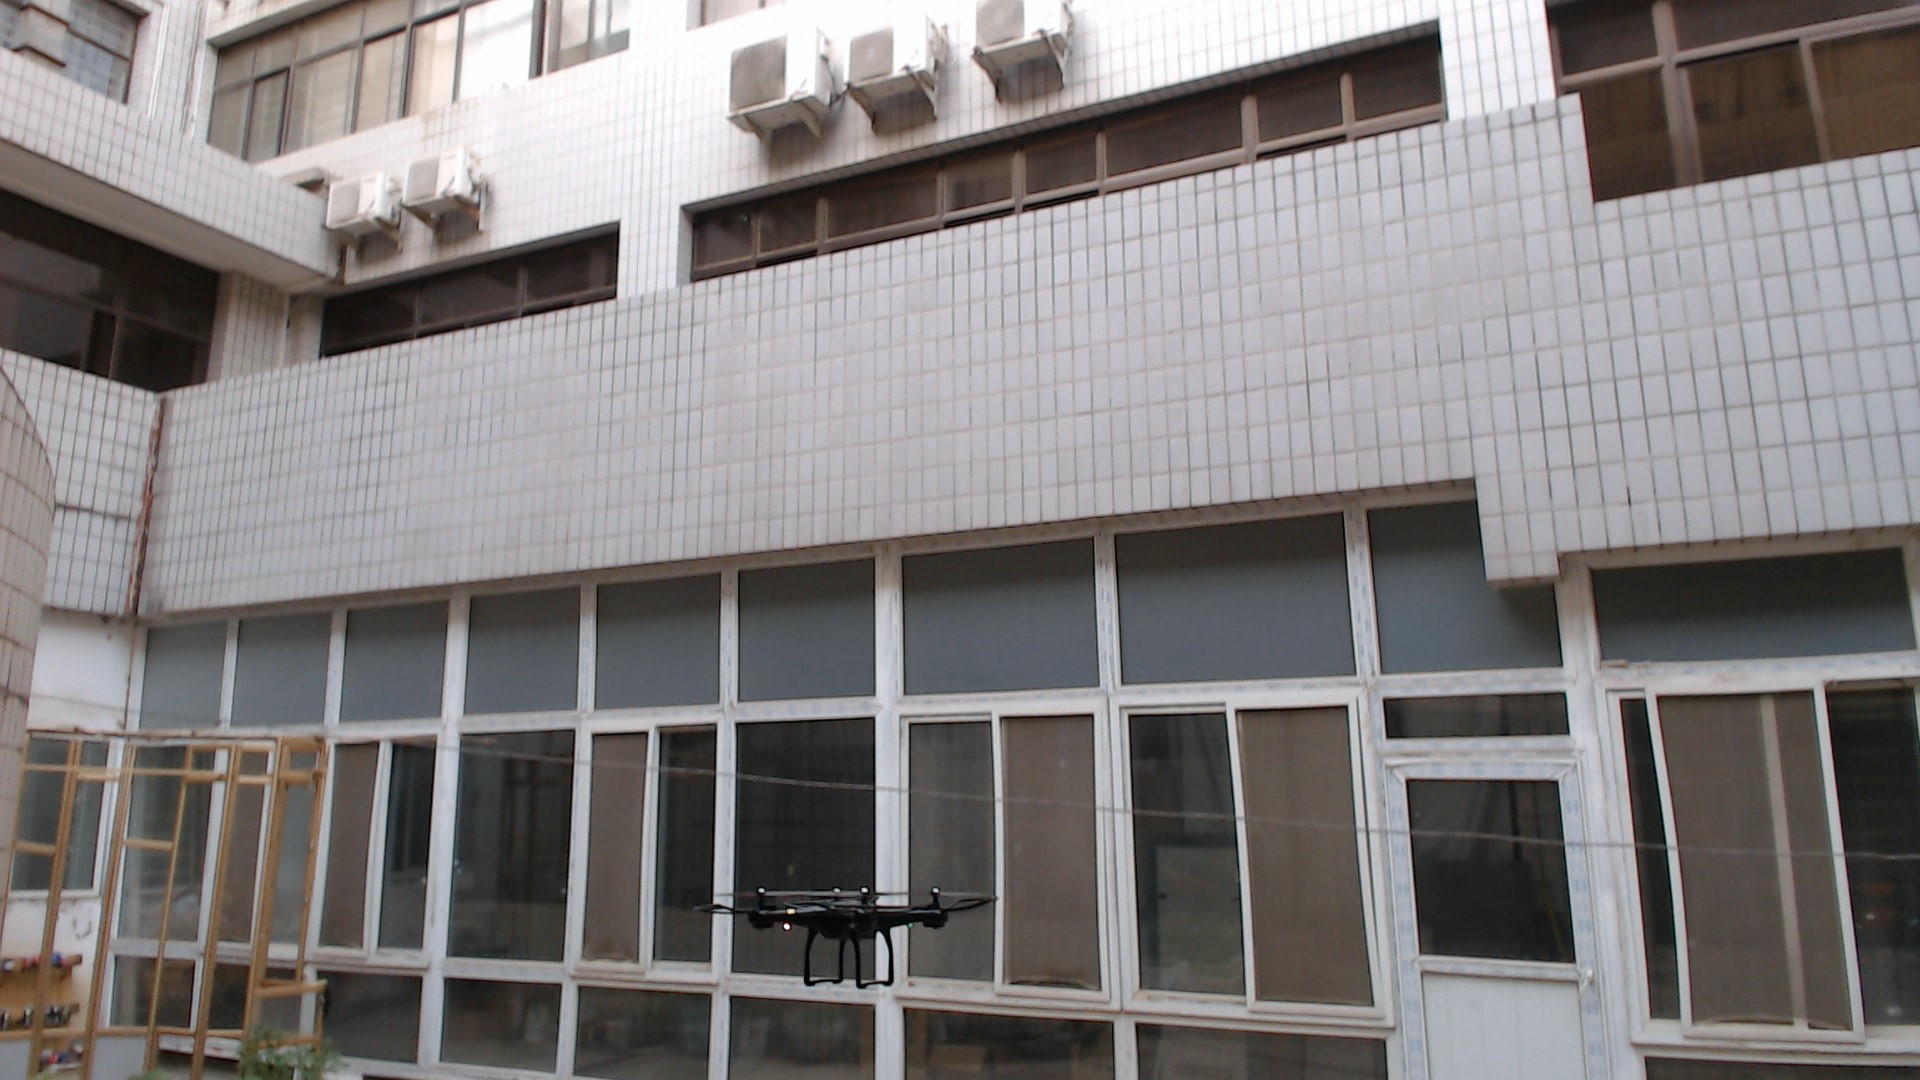drone: (678, 825, 1010, 1004)
